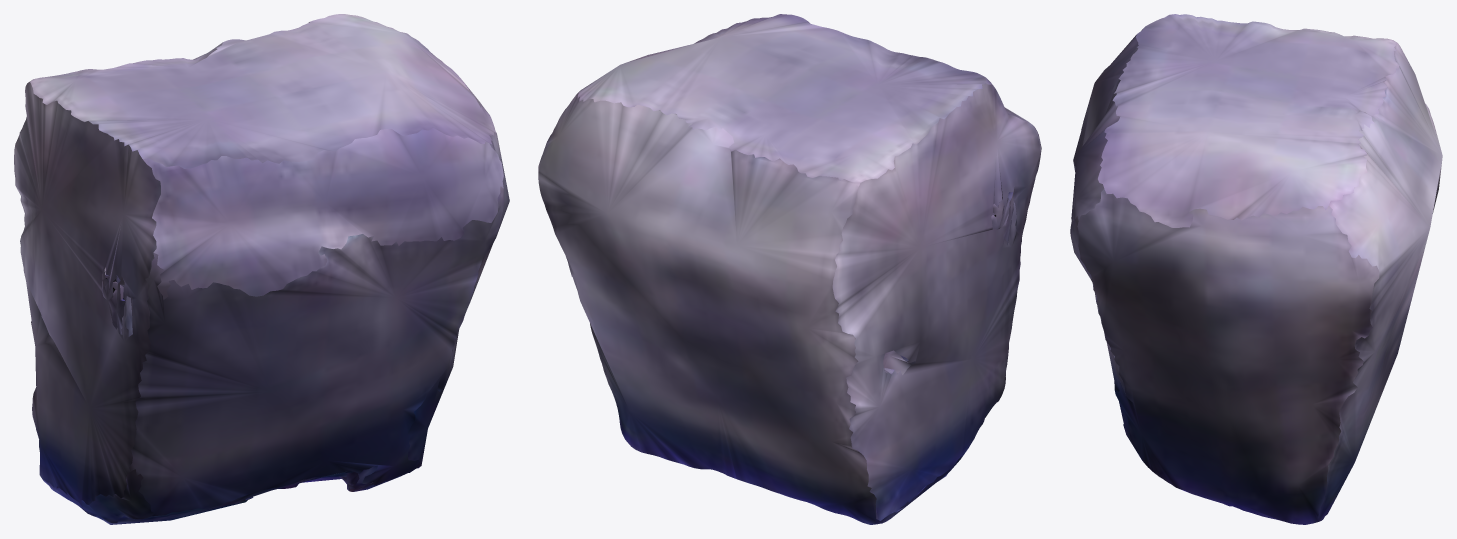
Rendered from 0_plastic_bag.glb.
The picture shows the model from 3 angles, left to right: view 1: azimuth 30°, elevation 25°; view 2: azimuth 150°, elevation 25°; view 3: azimuth 270°, elevation 25°; orthographic projection. The views are drawn at different scales.
Visible parts, largest first — view 1: 0_plastic_bag; view 2: 0_plastic_bag; view 3: 0_plastic_bag.
Part boxes in pixels (x1,y1,x2,y2): 0_plastic_bag: (14, 14, 509, 524); 0_plastic_bag: (538, 14, 1041, 524); 0_plastic_bag: (1070, 14, 1442, 524).
Bounding box in the file's own units: 0.3088 × 0.299 × 0.2663.
1 material, 1 textured.
